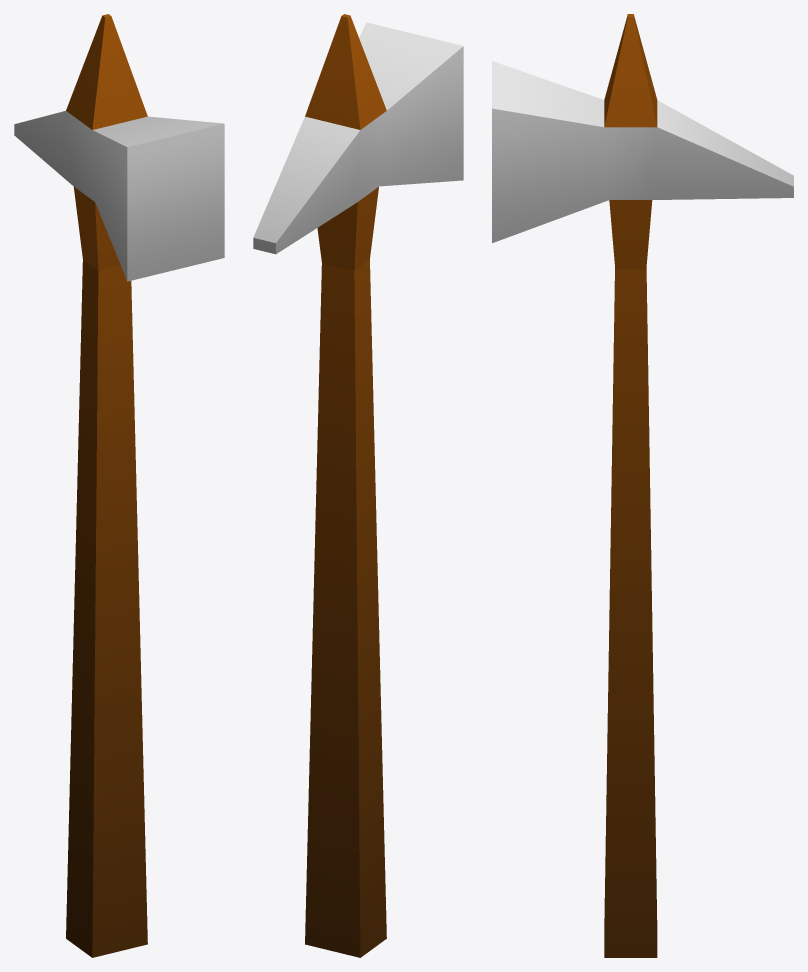
Rendered from Mazo.fbx.
The picture shows the model from 3 angles, left to right: view 1: azimuth 30°, elevation 25°; view 2: azimuth 150°, elevation 25°; view 3: azimuth 270°, elevation 25°; orthographic projection.
Visible parts, largest first — view 1: pCube2; view 2: pCube2; view 3: pCube2.
Part boxes in pixels (x1,y1,x2,y2): pCube2: (14, 14, 224, 957); pCube2: (253, 14, 463, 957); pCube2: (492, 14, 793, 957).
Size of the model in its own units: 99.49 by 905 by 267.
